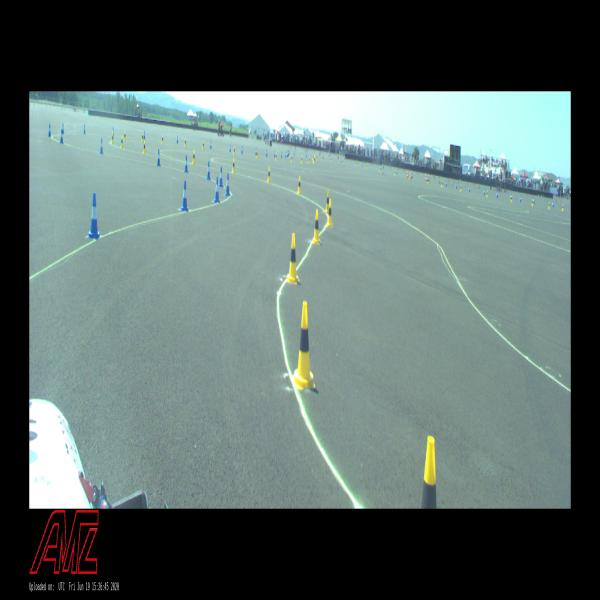blue_cone: (88, 192, 101, 238), (180, 180, 188, 210), (214, 177, 220, 202), (225, 173, 230, 195), (184, 155, 189, 172), (219, 167, 223, 186), (206, 161, 210, 179), (157, 149, 161, 166), (100, 138, 103, 153), (144, 131, 146, 140), (229, 144, 231, 152), (177, 136, 178, 144), (210, 141, 211, 149)
yellow_cone: (292, 301, 316, 388), (421, 436, 437, 508), (286, 233, 300, 284), (312, 209, 320, 244), (327, 199, 333, 227), (325, 191, 329, 213), (231, 158, 236, 173), (267, 167, 271, 182), (192, 150, 196, 164), (298, 177, 301, 194), (120, 136, 124, 148), (143, 140, 146, 154), (111, 131, 114, 145), (141, 132, 144, 142), (124, 130, 126, 142), (202, 141, 204, 150), (184, 138, 186, 147), (234, 146, 235, 155), (162, 135, 163, 143)
